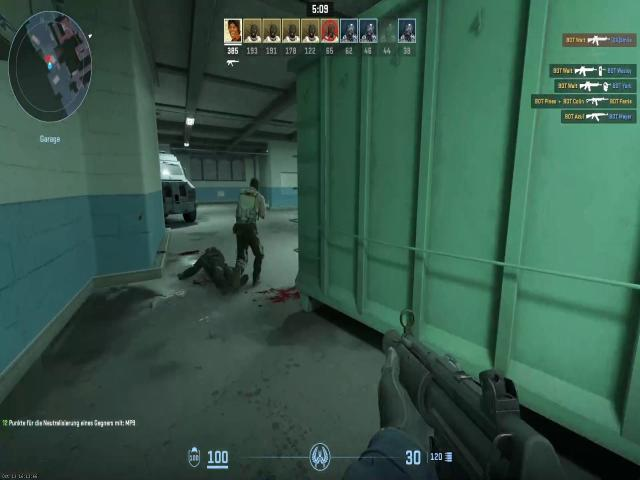T: (186, 244, 241, 297), (230, 181, 268, 233)
T-Head: (244, 173, 260, 193)
